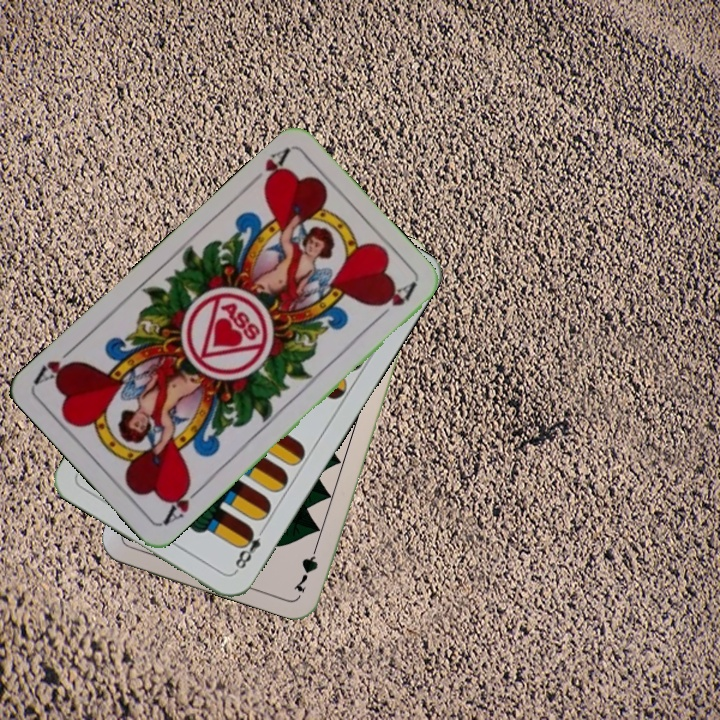E8: (230, 523, 269, 575)
G7: (289, 538, 322, 596)
HA: (159, 478, 207, 527), (244, 144, 292, 193)
